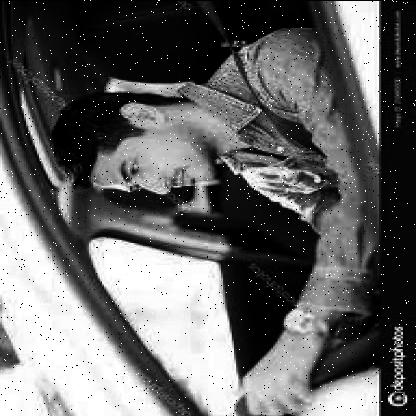seatbelt: (51, 29, 352, 200)
